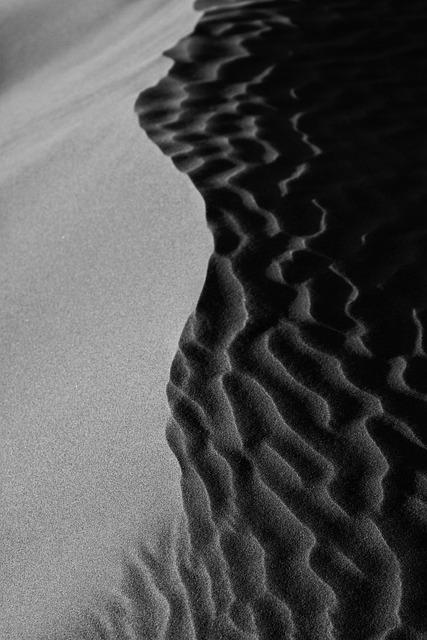Non_Gorille: (28, 11, 427, 640)
